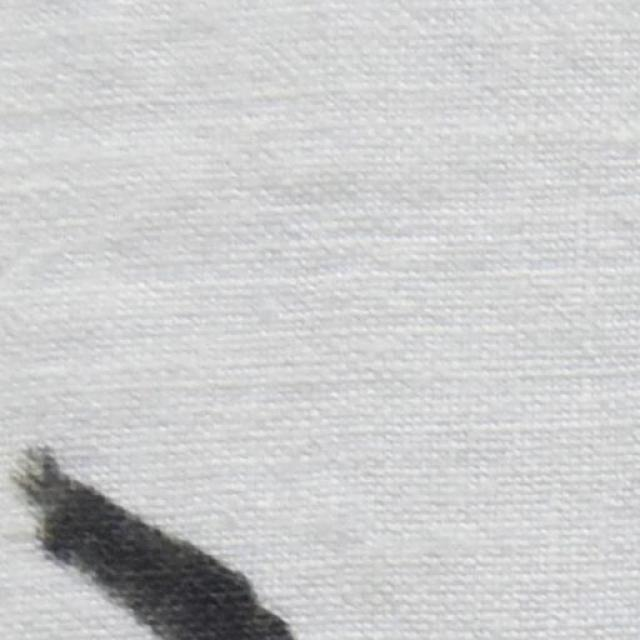Stain: (11, 437, 298, 640)
